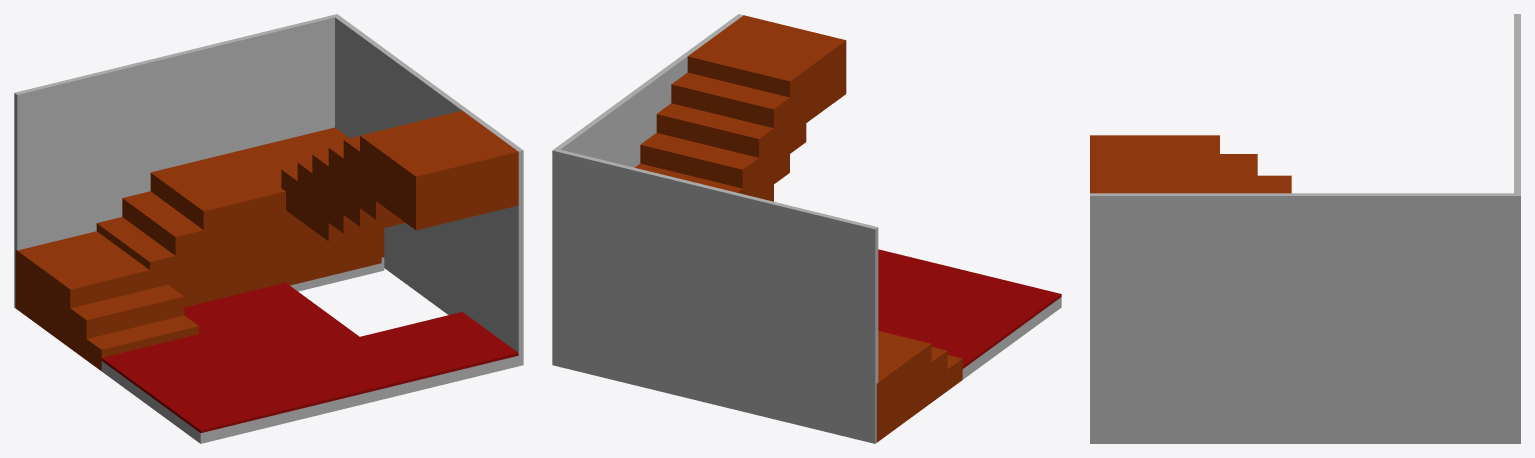
Rendered from 4x2 second-6.obj.
3 renders of one model, left to right at view 1: azimuth 30°, elevation 25°; view 2: azimuth 150°, elevation 25°; view 3: azimuth 270°, elevation 25°, orthographic. The views are drawn at different scales.
Visible parts, largest first — view 1: 4x2 second-6; view 2: 4x2 second-6; view 3: 4x2 second-6.
Boxes of the visible parts, x1,y1,x2,y2 form: 4x2 second-6: [14, 14, 523, 443]; 4x2 second-6: [552, 14, 1061, 443]; 4x2 second-6: [1090, 14, 1520, 443].
Bounding box in the file's own units: 126 × 80 × 126.
1 material, 1 textured.
